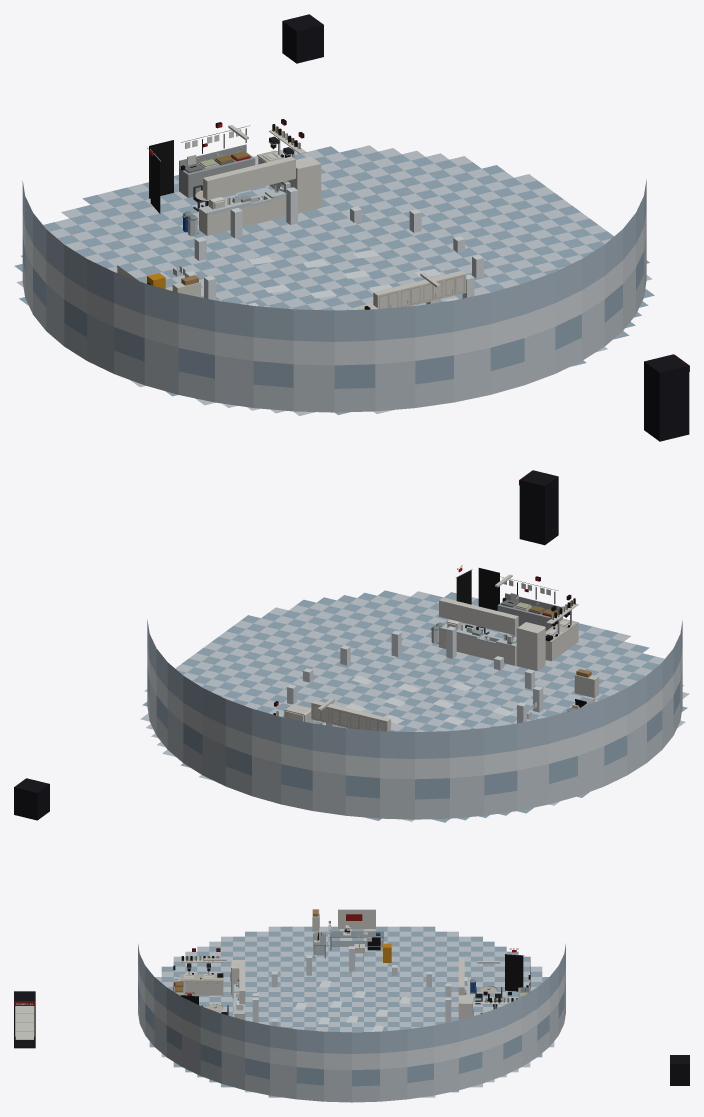
The model's file is arena_fridge.glb.
3 views of the same model, one above another, from view 1: azimuth 30°, elevation 25°; view 2: azimuth 150°, elevation 25°; view 3: azimuth 270°, elevation 25° (orthographic). The views are drawn at different scales.
Parts seen in each view (by area): view 1: fridge_a, fridge_floor, fridge_b, fridge_c; view 2: fridge_a, fridge_floor, fridge_c, fridge_b; view 3: fridge_a, fridge_floor, fridge_c, fridge_b.
Part boxes in pixels (x1,y1,x2,y2): fridge_a: (22,179,646,412); fridge_floor: (14,145,654,415); fridge_b: (147,119,483,306); fridge_c: (117,14,689,441); fridge_a: (147,565,682,819); fridge_floor: (140,590,689,822); fridge_c: (14,470,598,820); fridge_b: (273,626,543,731); fridge_a: (138,944,565,1102); fridge_floor: (149,926,554,1097); fridge_c: (14,909,689,1085); fridge_b: (252,946,530,1026).
Size of the model in its own units: 72 by 13 by 114.
